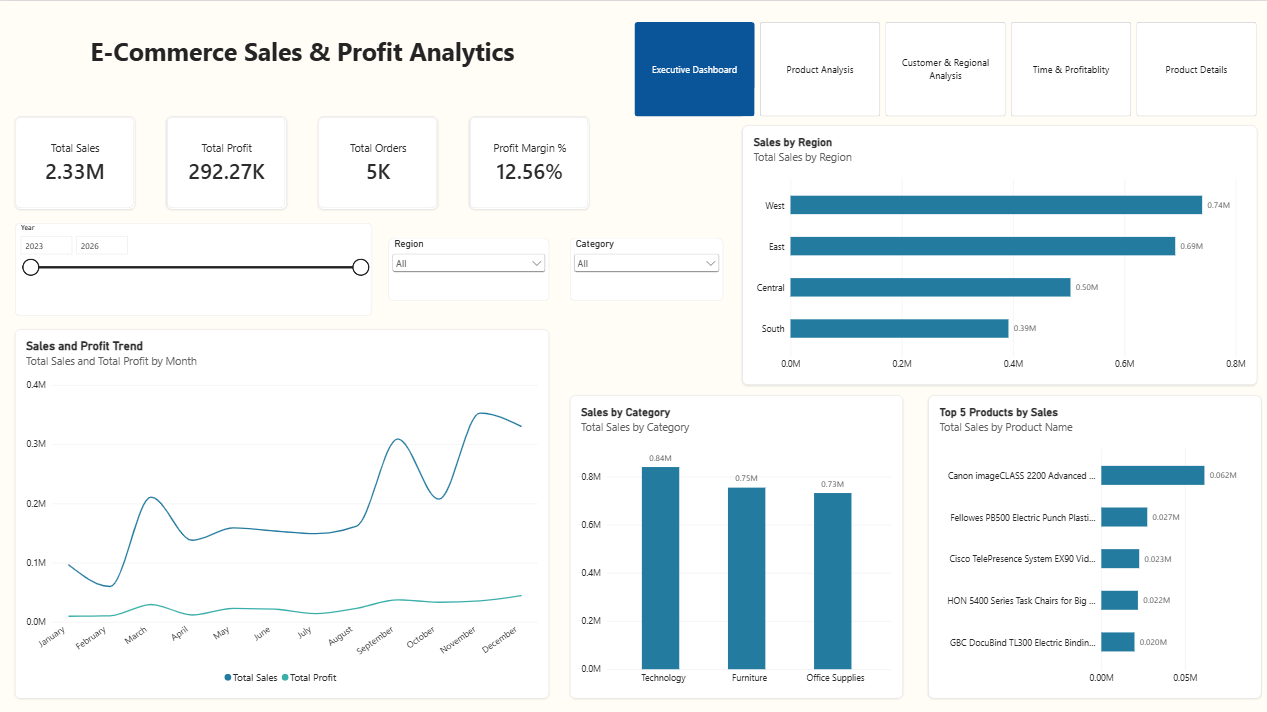

The page's visual inventory and layout, read from the dashboard file:
{"tool":"powerbi","page":{"name":"Executive Dashboard","canvas":[1920,1080],"ordinal":0},"visuals":[{"type":"textbox","box":[10,0,280,280],"z":0},{"type":"textbox","box":[10,290,280,280],"z":1000},{"type":"textbox","box":[11.3,581.1,1057.3,136.1],"z":2000},{"type":"textbox","box":[104.5,31.8,706.4,109],"z":3000},{"type":"cardVisual","fields":{"Data":["Orders.Total Sales"]},"box":[22.7,174.9,181.7,140.8],"z":4000},{"type":"cardVisual","fields":{"Data":["Orders.Total Profit"]},"box":[252.3,174.9,181.7,140.8],"z":5000},{"type":"cardVisual","fields":{"Data":["Orders.Total Orders"]},"box":[482,174.9,181,140.8],"z":6000},{"type":"cardVisual","fields":{"Data":["Orders.Profit Margin %"]},"box":[710.9,174.9,181,140.8],"z":8000},{"type":"lineChart","title":"Sales and Profit Trend","fields":{"Category":["DateTable.Month"],"Y":["Orders.Total Sales","Orders.Total Profit"]},"box":[22.7,497.4,808.6,558.7],"z":9000},{"type":"clusteredColumnChart","title":"Sales by Category","fields":{"Category":["Orders.Category"],"Y":["Orders.Total Sales"]},"box":[863.1,597.4,504.2,458.8],"z":10000},{"type":"barChart","title":"Sales by Region","fields":{"Category":["Orders.Region"],"Y":["Orders.Total Sales"]},"box":[1124.3,188.5,779.1,392.9],"z":12000},{"type":"barChart","title":"Top 5 Products by Sales","fields":{"Category":["Orders.Product Name"],"Y":["Orders.Total Sales"]},"box":[1405.9,597.4,504,458.8],"z":13000},{"type":"slicer","fields":{"Values":["DateTable.Year"]},"box":[22.7,336.2,540.6,140.8],"z":14000},{"type":"slicer","fields":{"Values":["Orders.Category"]},"box":[863.1,358.9,231.7,95.4],"z":15000},{"type":"slicer","fields":{"Values":["Orders.Region"]},"box":[588.3,358.9,243,95.4],"z":16000},{"type":"pageNavigator","box":[960.8,31.8,942.6,143.1],"z":17000}]}

Visuals, with their boxes in screenshot pixels (x1, y1, x2, y2), scaled from the page's 1920x1080 canvas onto the 1267x712 screenshot:
textbox: BBox(7, 0, 191, 185)
textbox: BBox(7, 191, 191, 376)
textbox: BBox(7, 383, 705, 473)
textbox: BBox(69, 21, 535, 93)
cardVisual - Orders.Total Sales: BBox(15, 115, 135, 208)
cardVisual - Orders.Total Profit: BBox(166, 115, 286, 208)
cardVisual - Orders.Total Orders: BBox(318, 115, 438, 208)
cardVisual - Orders.Profit Margin %: BBox(469, 115, 589, 208)
"Sales and Profit Trend" lineChart: BBox(15, 328, 549, 696)
"Sales by Category" clusteredColumnChart: BBox(570, 394, 902, 696)
"Sales by Region" barChart: BBox(742, 124, 1256, 383)
"Top 5 Products by Sales" barChart: BBox(928, 394, 1260, 696)
slicer - DateTable.Year: BBox(15, 222, 372, 314)
slicer - Orders.Category: BBox(570, 237, 722, 300)
slicer - Orders.Region: BBox(388, 237, 549, 300)
pageNavigator: BBox(634, 21, 1256, 115)
